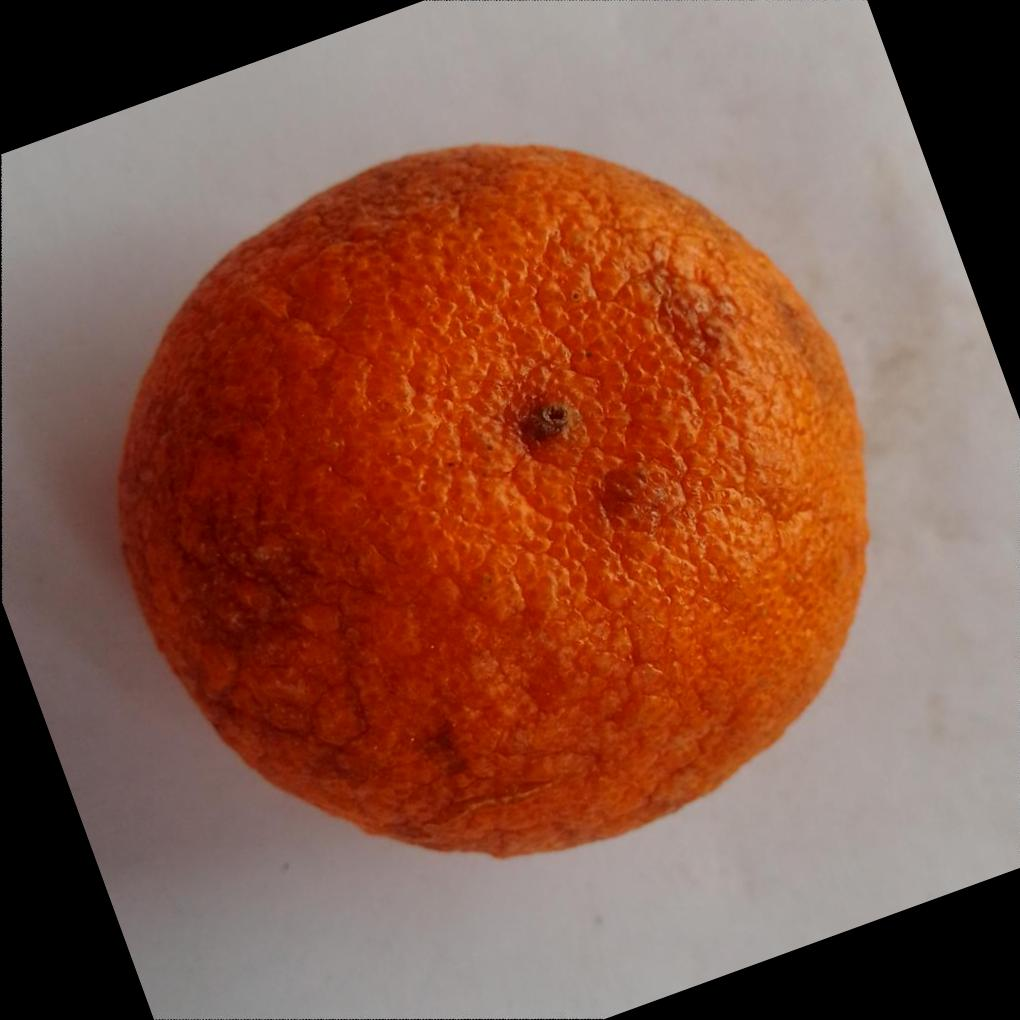FreshOrange: (111, 135, 870, 857)
